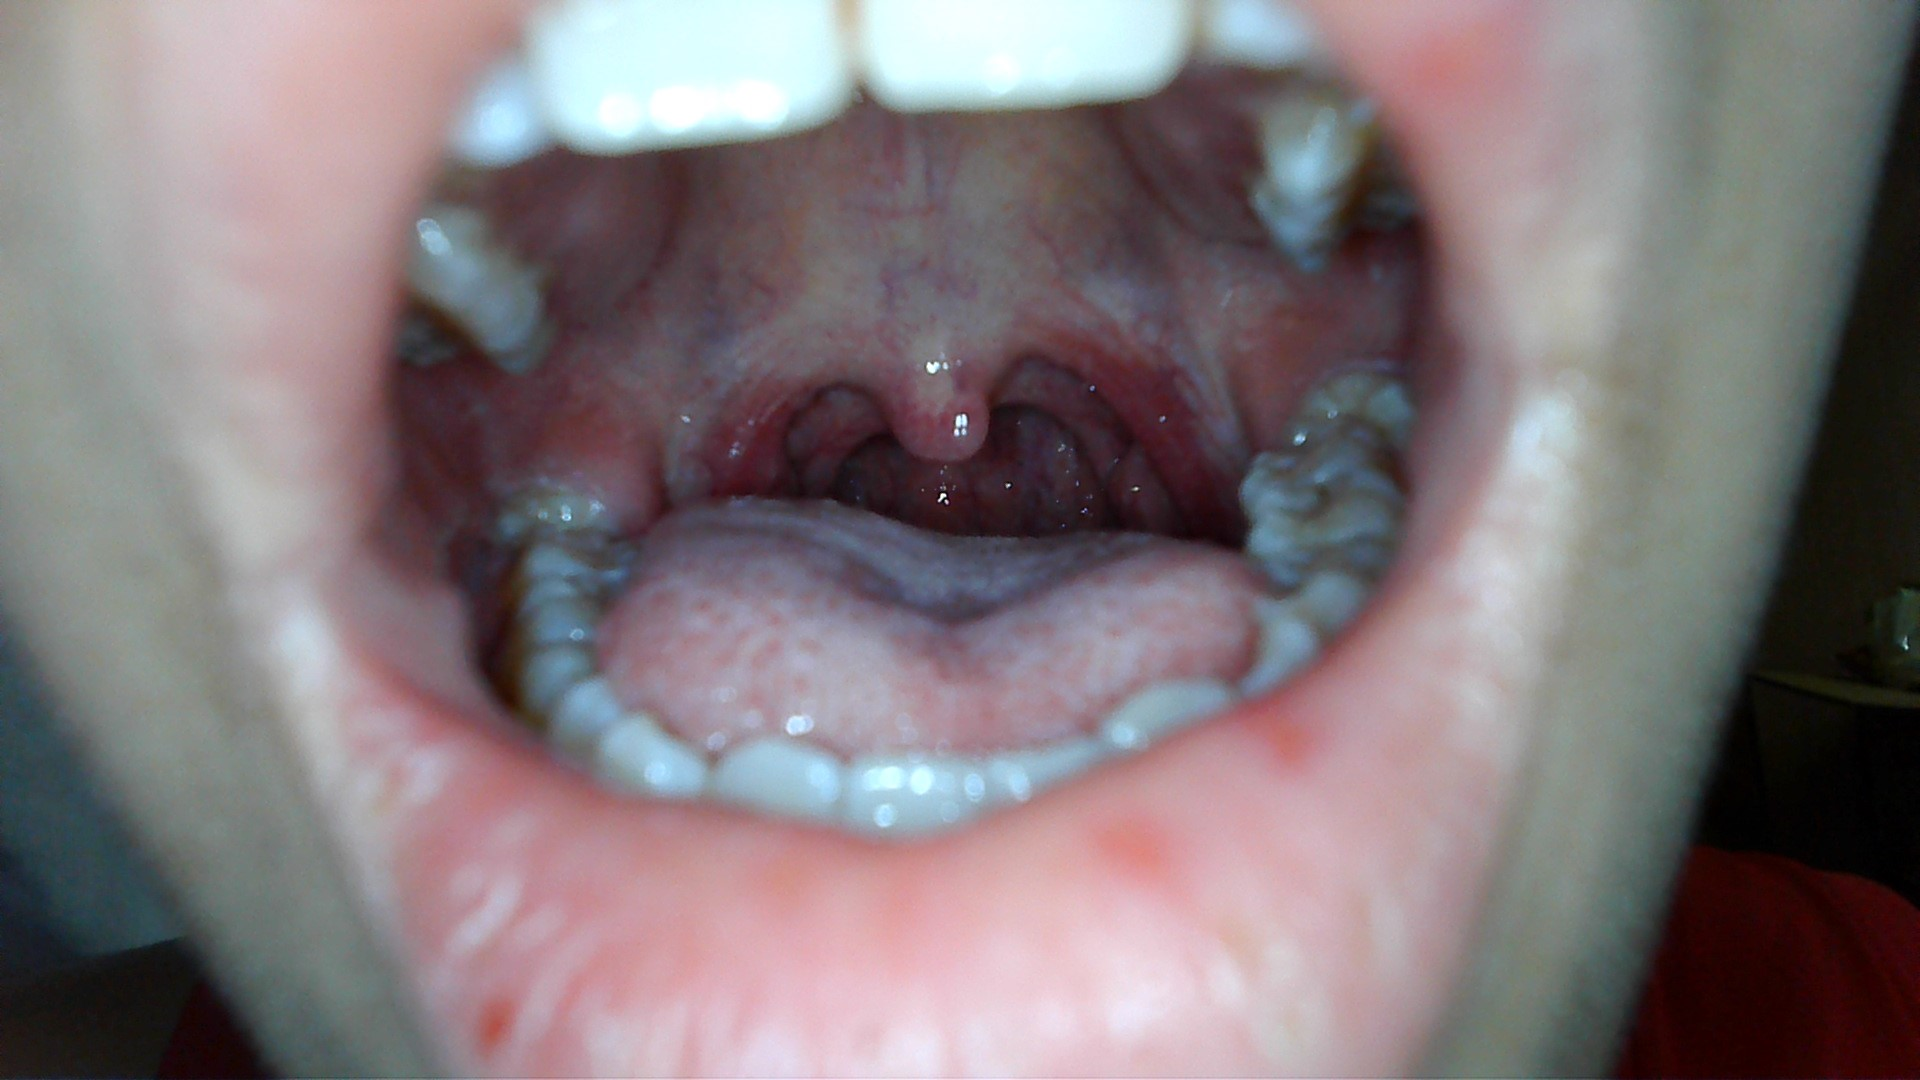throat: (1069, 295, 1218, 508), (698, 320, 843, 484)
